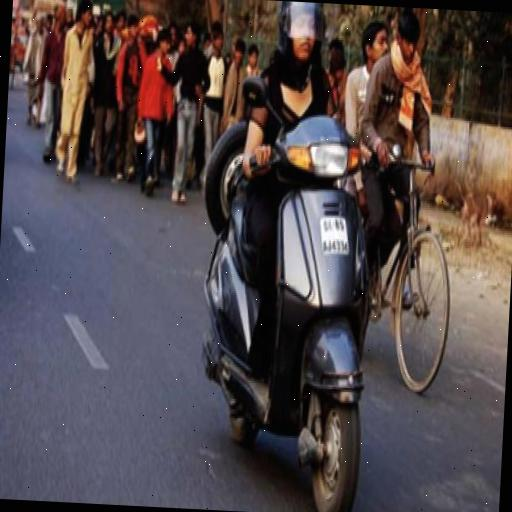helmet: (184, 0, 397, 510)
